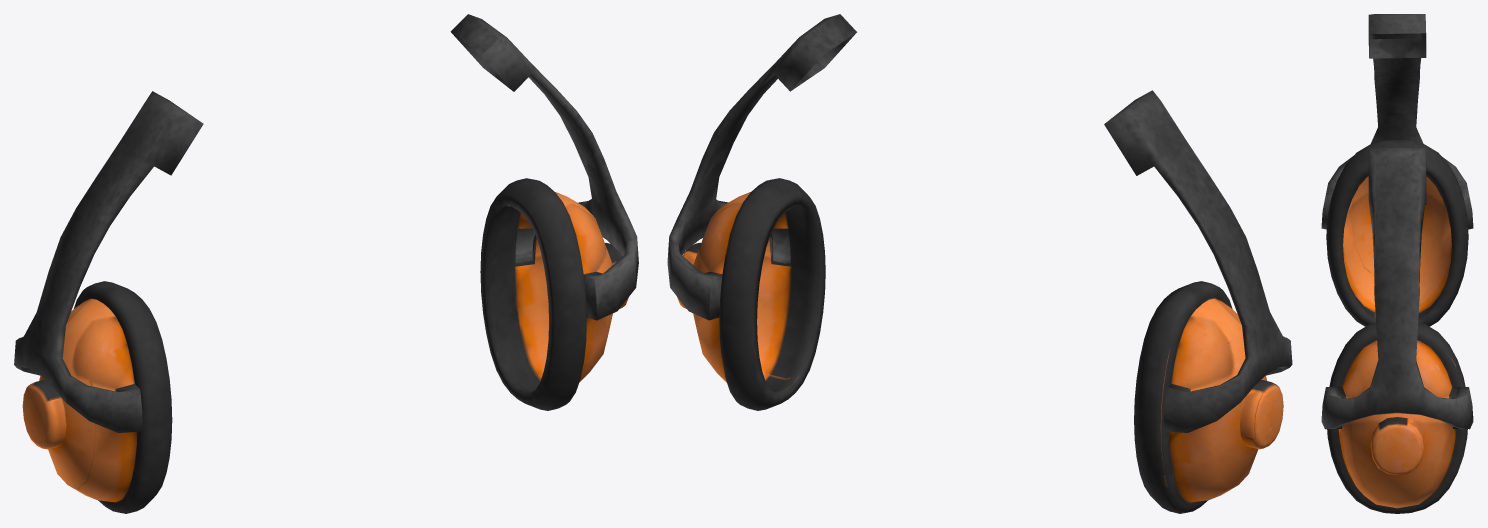
The model's file is OSHA Gear HeadPhones.fbx.
The picture shows the model from 3 angles, left to right: view 1: azimuth 30°, elevation 25°; view 2: azimuth 150°, elevation 25°; view 3: azimuth 270°, elevation 25°; orthographic projection. The views are drawn at different scales.
Visible parts, largest first — view 1: HeadPHones; view 2: HeadPHones; view 3: HeadPHones.
Part boxes in pixels (x1,y1,x2,y2): HeadPHones: [14, 14, 638, 513]; HeadPHones: [667, 14, 1292, 513]; HeadPHones: [1321, 14, 1473, 513].
Size of the model in its own units: 0.251 by 0.1611 by 0.0652.
